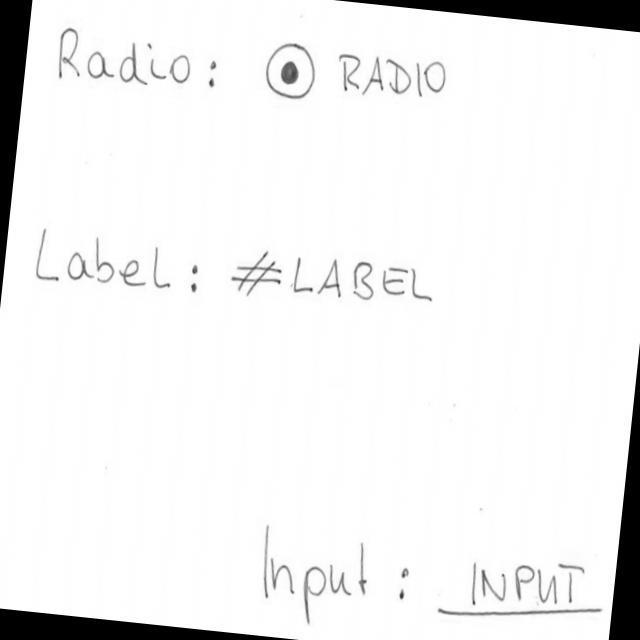input: (436, 544, 611, 636)
label: (227, 241, 441, 318)
radio: (260, 39, 451, 121)
